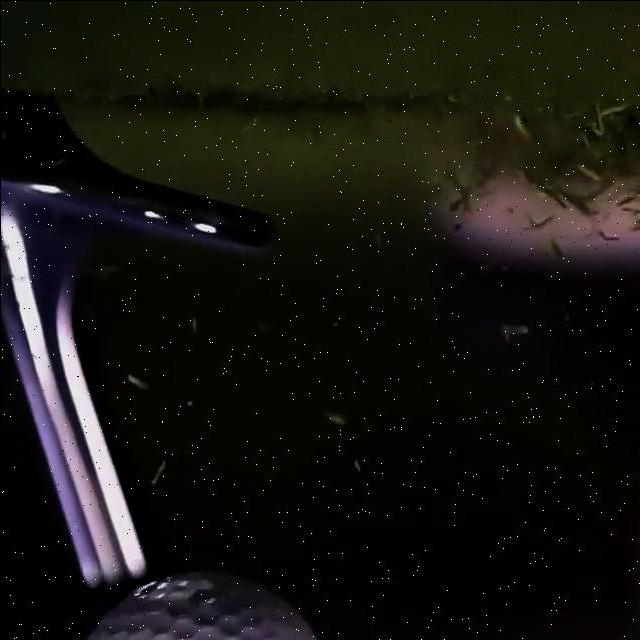golf ball: (78, 571, 323, 640)
golf club-handle: (1, 92, 290, 640)
golf club-head: (0, 118, 293, 267)
